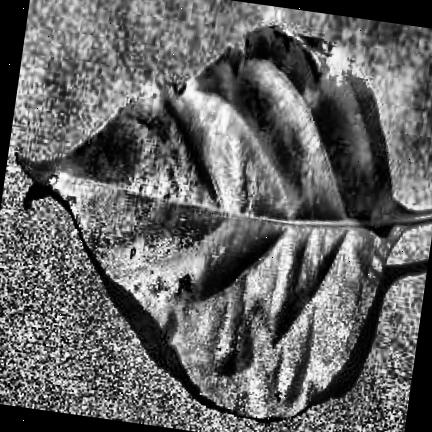leaf: (18, 25, 432, 416)
